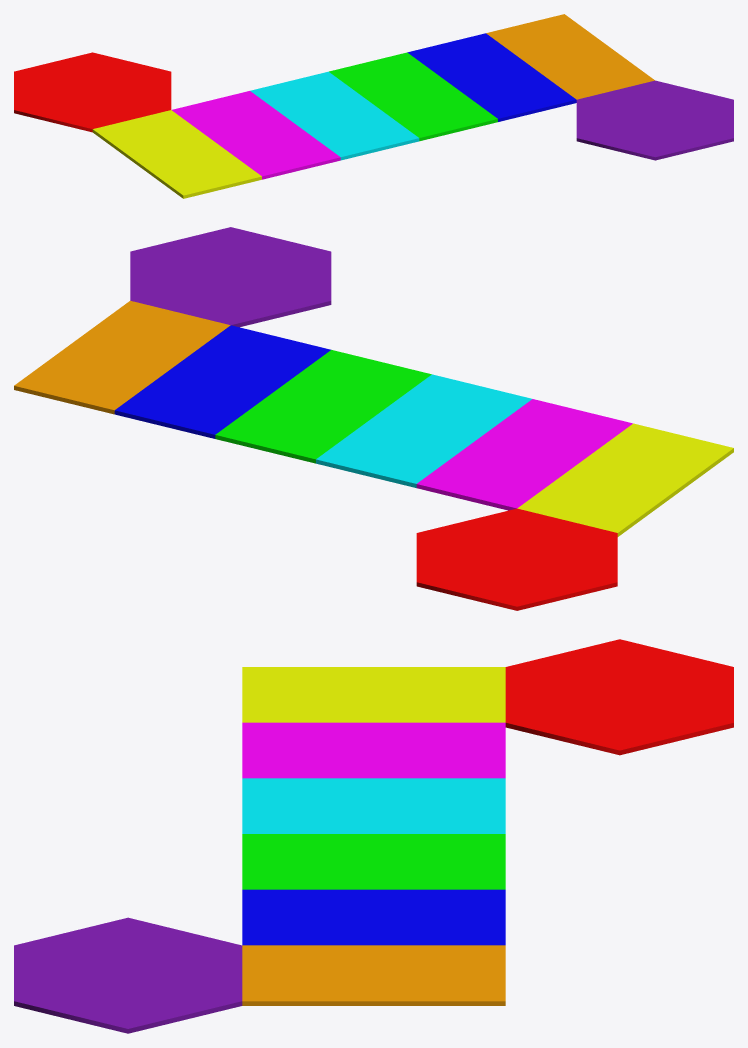
The model's file is hexagono_net.glb.
3 views of the same model, one above another, from view 1: azimuth 30°, elevation 25°; view 2: azimuth 150°, elevation 25°; view 3: azimuth 270°, elevation 25° (orthographic). The views are drawn at different scales.
Parts seen in each view (by area): view 1: tapa, base, lado, lado002, lado003, lado004, lado001, lado005; view 2: base, tapa, lado, lado004, lado005, lado003, lado002, lado001; view 3: base, tapa, lado005, lado001, lado004, lado, lado002, lado003.
Part boxes in pixels (box(x1,y1,x2,y2)): tapa: box(576, 80, 733, 160); base: box(14, 52, 171, 132); lado: box(92, 110, 261, 198); lado002: box(250, 71, 419, 160); lado003: box(329, 52, 497, 141); lado004: box(407, 33, 576, 121); lado001: box(172, 91, 340, 179); lado005: box(486, 14, 654, 99); base: box(416, 508, 617, 610); tapa: box(130, 227, 331, 327); lado: box(517, 423, 733, 536); lado004: box(114, 325, 330, 438); lado005: box(14, 300, 230, 414); lado003: box(215, 350, 431, 463); lado002: box(316, 374, 531, 487); lado001: box(416, 399, 632, 510); base: box(505, 639, 733, 755); tapa: box(14, 917, 242, 1033); lado005: box(242, 945, 505, 1005); lado001: box(242, 722, 505, 778); lado004: box(242, 889, 505, 945); lado: box(242, 667, 505, 722); lado002: box(242, 778, 505, 833); lado003: box(242, 834, 505, 889).
Bounding box in the file's own units: 4.44 × 0.0254 × 3.47.
